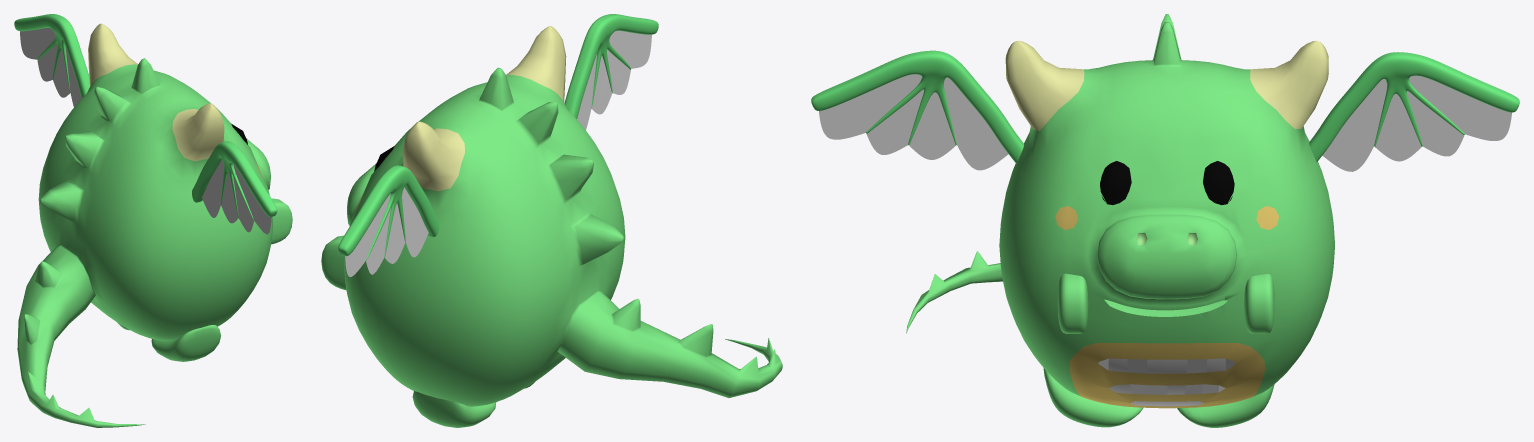
File: DragonPlushie.fbx
3 views of the same model, side by side, from view 1: azimuth 30°, elevation 25°; view 2: azimuth 150°, elevation 25°; view 3: azimuth 270°, elevation 25° (orthographic). The views are drawn at different scales.
Parts seen in each view (by area): view 1: Zmaj, Krila, Nogice, Cube.010; view 2: Zmaj, Krila, Nogice, Cube.010; view 3: Zmaj, Krila, Nogice, Cube.010, Unutrasnjost.
Part boxes in pixels (<box>): Zmaj: <box>17,23,273,427</box>; Krila: <box>14,14,277,234</box>; Nogice: <box>117,322,220,361</box>; Cube.010: <box>271,198,292,244</box>; Zmaj: <box>344,26,782,406</box>; Krila: <box>338,14,658,276</box>; Nogice: <box>412,381,535,427</box>; Cube.010: <box>321,235,346,290</box>; Zmaj: <box>906,14,1334,408</box>; Krila: <box>811,50,1519,171</box>; Nogice: <box>1043,368,1274,427</box>; Cube.010: <box>1057,273,1274,333</box>; Unutrasnjost: <box>1104,299,1227,316</box>.
Bounding box in the file's own units: 164 × 160 × 264.
